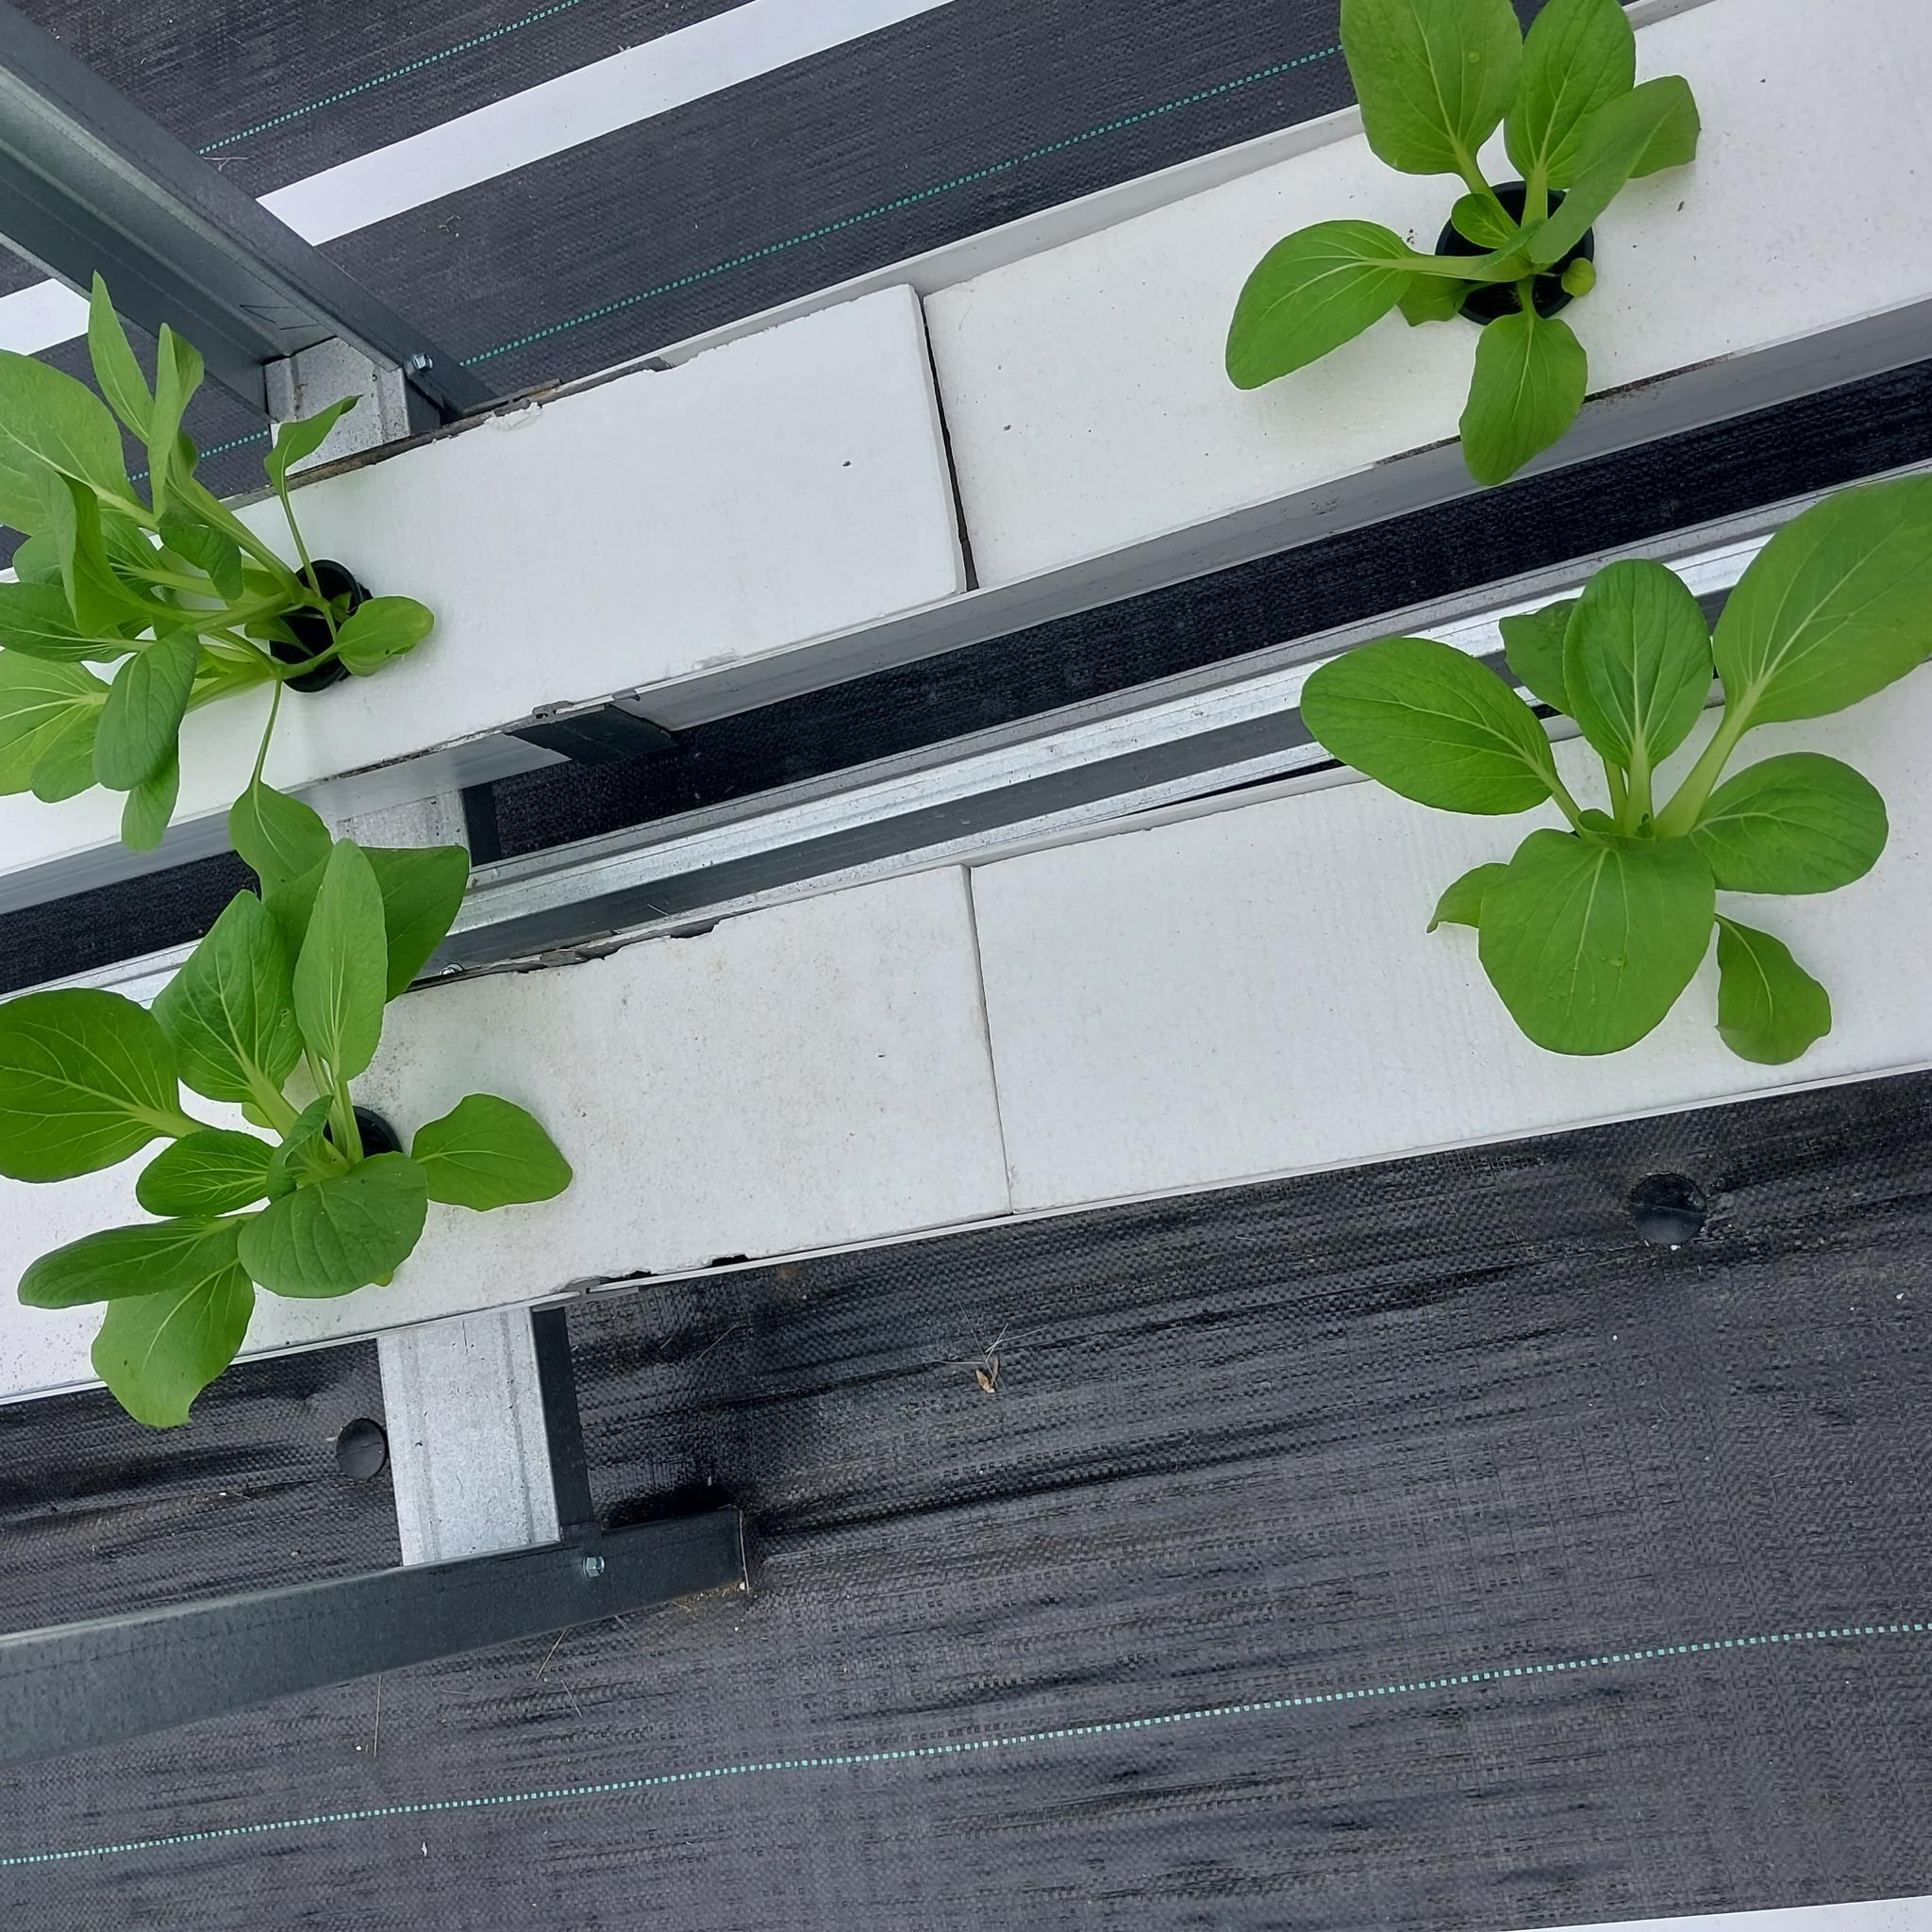Healthy-Pechay: (1700, 462, 1932, 755), (1461, 826, 1714, 1058), (1299, 639, 1566, 816), (1557, 559, 1714, 826), (0, 989, 205, 1173), (1228, 225, 1447, 384), (157, 886, 303, 1120), (1339, 0, 1513, 189), (0, 334, 147, 554), (92, 1246, 255, 1428), (1681, 755, 1893, 893), (292, 840, 391, 1136), (239, 1152, 430, 1300), (1507, 0, 1645, 200), (1460, 295, 1582, 485), (16, 1214, 248, 1304), (400, 1095, 573, 1210), (94, 632, 198, 814), (1713, 911, 1833, 1063), (361, 842, 472, 1005), (87, 280, 168, 469), (1499, 596, 1594, 750), (138, 1129, 285, 1219), (264, 400, 357, 534), (1606, 76, 1702, 180), (0, 577, 110, 662), (157, 515, 253, 612), (1428, 863, 1502, 931)
